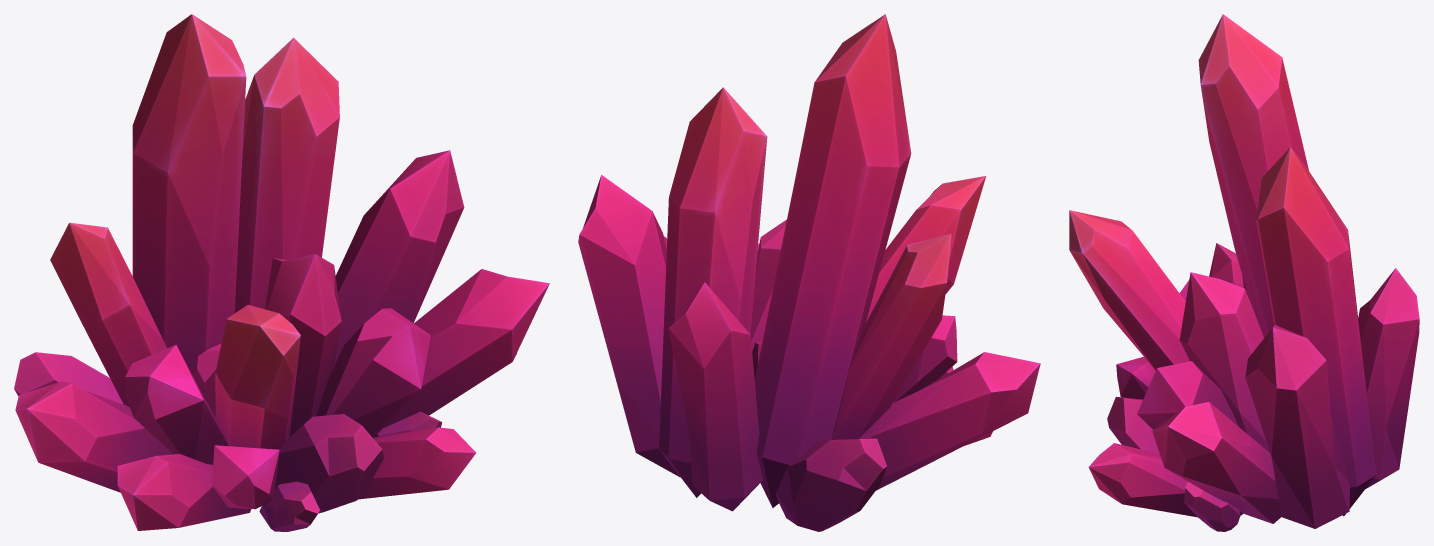
Rendered from Crystal_Assemling.fbx.
3 renders of one model, left to right at view 1: azimuth 30°, elevation 25°; view 2: azimuth 150°, elevation 25°; view 3: azimuth 270°, elevation 25°, orthographic. The views are drawn at different scales.
Visible parts, largest first — view 1: Crystal_Assemling; view 2: Crystal_Assemling; view 3: Crystal_Assemling.
Part boxes in pixels (box(x1,y1,x2,y2)): Crystal_Assemling: box(14, 14, 549, 531); Crystal_Assemling: box(578, 14, 1040, 531); Crystal_Assemling: box(1069, 14, 1419, 531).
Bounding box in the file's own units: 758 × 778 × 545.
1 material, 1 textured.
